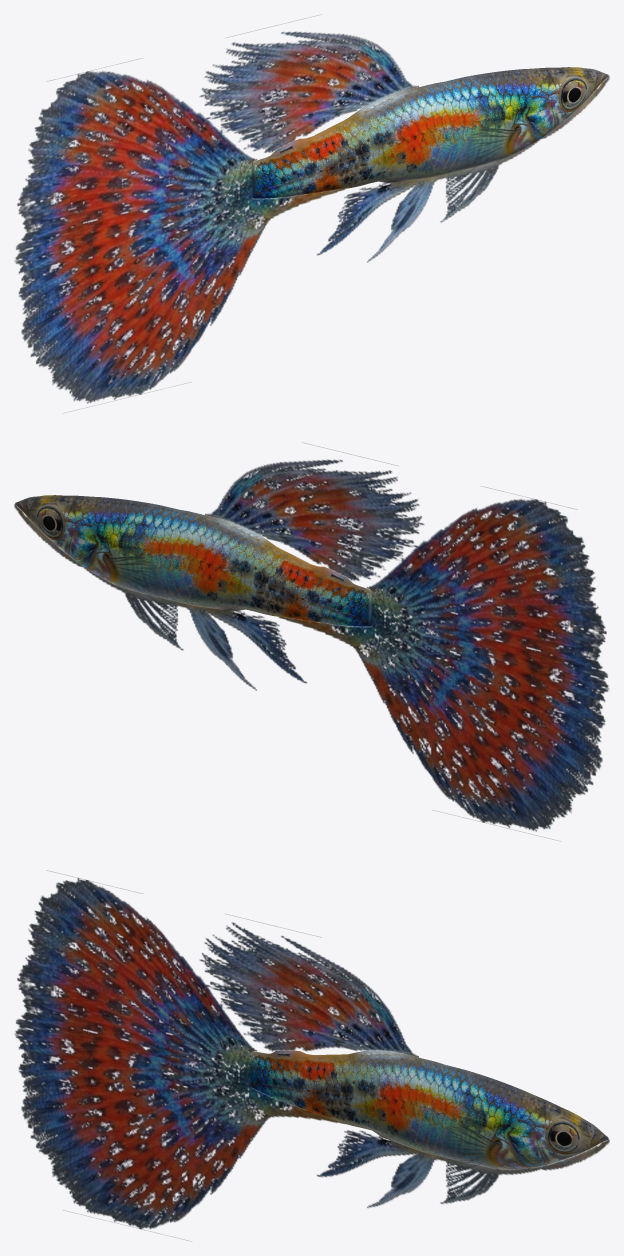
Rendered from species-guppy.glb.
3 views of the same model, one above another, from view 1: azimuth 30°, elevation 25°; view 2: azimuth 150°, elevation 25°; view 3: azimuth 330°, elevation 25° (orthographic).
Parts seen in each view (by area): view 1: guppy; view 2: guppy; view 3: guppy.
Boxes of the visible parts, x1,y1,x2,y2 form: guppy: (15,14,609,413); guppy: (14,442,608,841); guppy: (15,870,609,1240).
Bounding box in the file's own units: 0.0451 × 0.0243 × 0.00278.
1 material, 1 textured.
